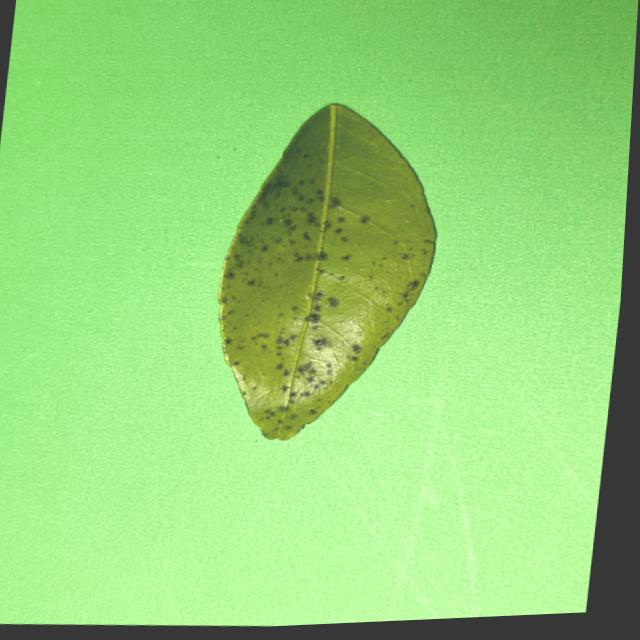sooty_mold: (218, 111, 436, 440)
